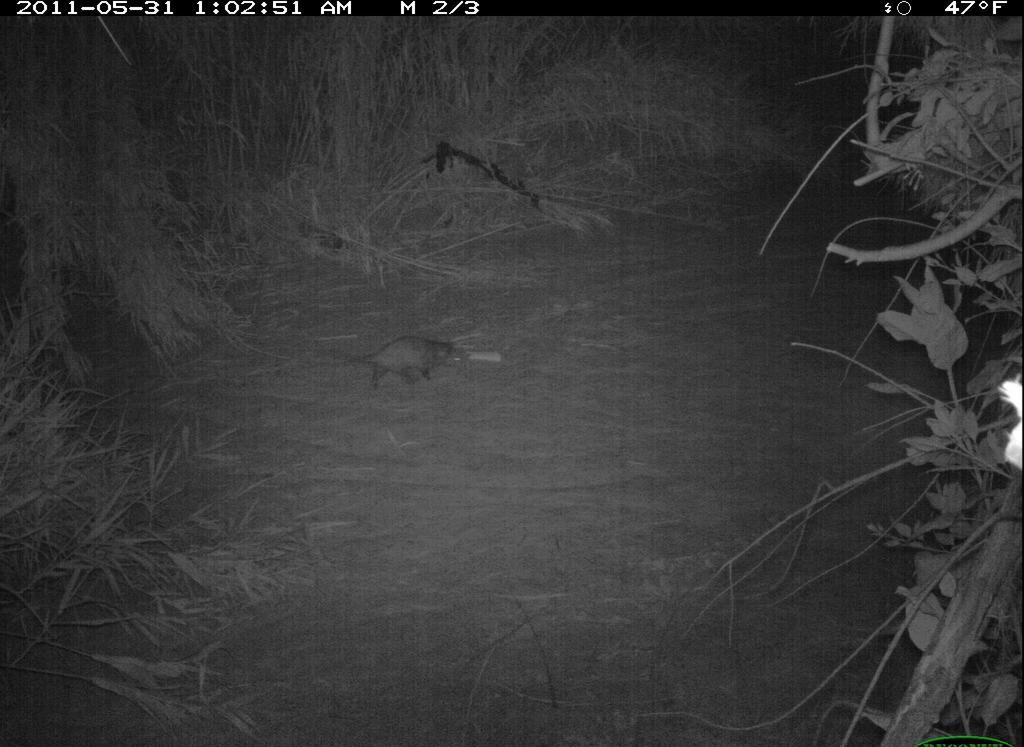opossum: (335, 340, 481, 392)
